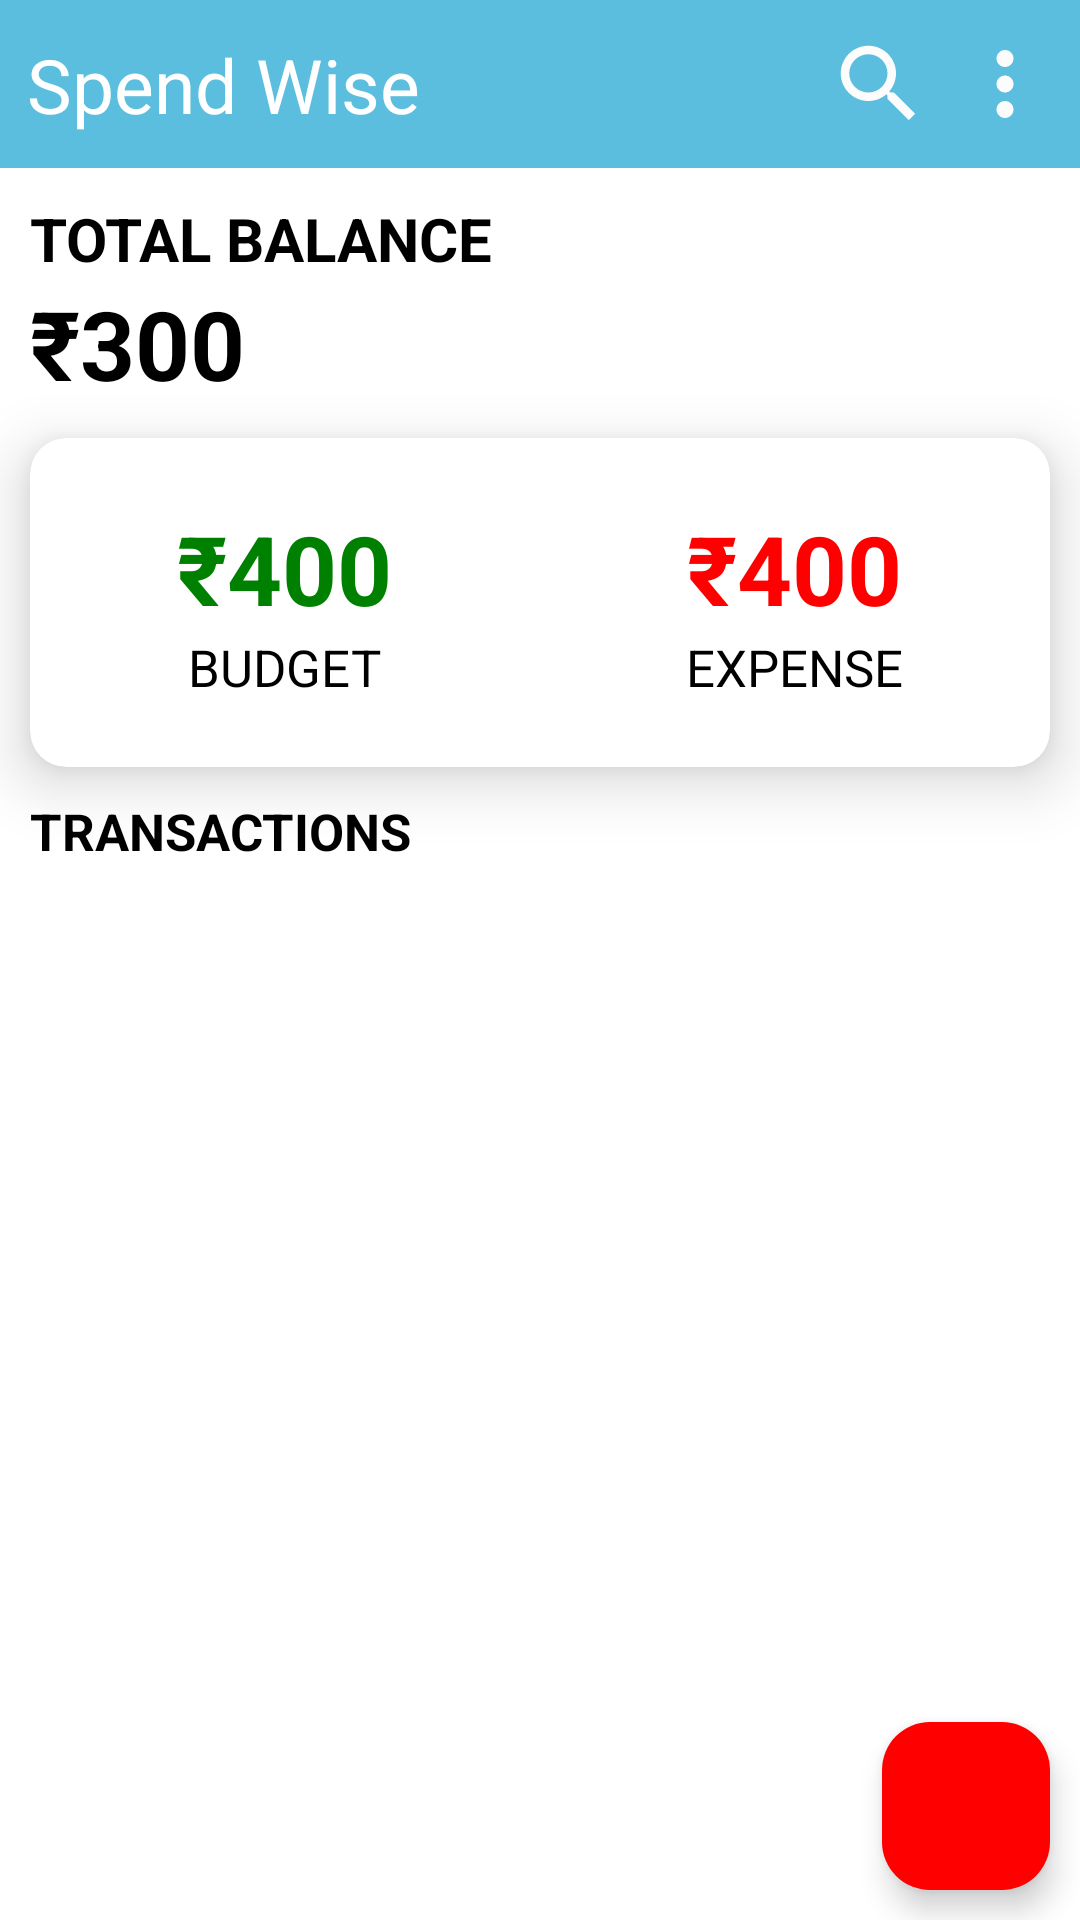

Screen size 1080 x 1920. Icon name, then its center in pixels as point (x, y):
more vert: point (1005, 84)
search: point (877, 82)
